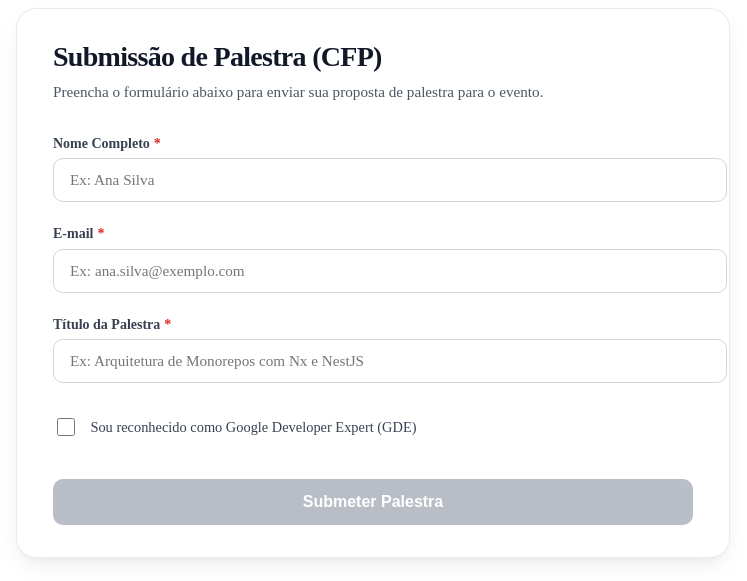
Scenario: CfpForm Component › Liberação do botão, submissão e acessibilidade WAI-ARIA (Task 4.2) › deve habilitar o botão de submissão após preenchimento válido de todos os campos obrigatórios
Check: the button "Submeter Palestra" is disabled, box [53,479,693,525]
Type "João Palestrante" into the field labelled "Nome Completo *".
click(390, 180); type("João Palestrante")  # box [53,158,727,202]
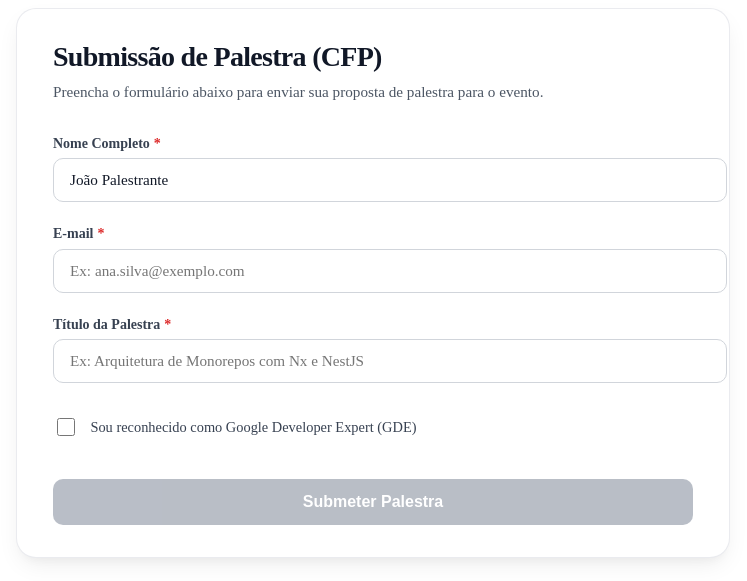
Check: the button "Submeter Palestra" is disabled, box [53,479,693,525]
Type "joao@exemplo.com" into the field labelled "E-mail *".
click(390, 271); type("joao@exemplo.com")  # box [53,249,727,293]
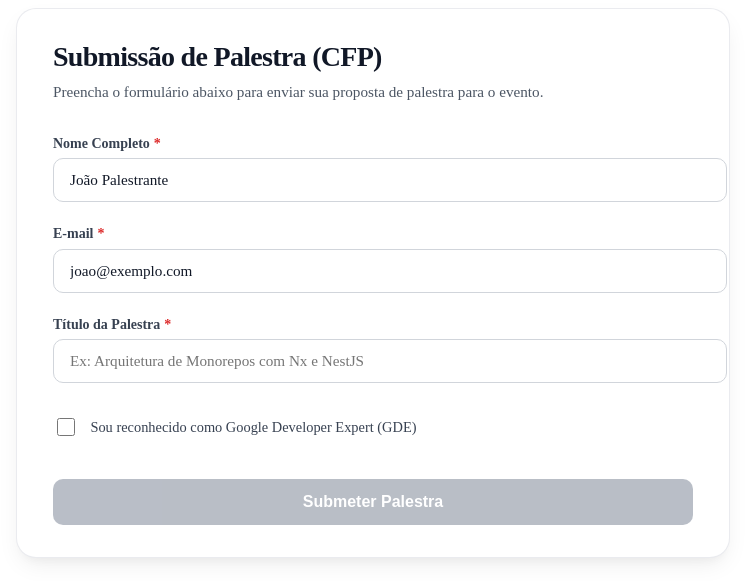
Check: the button "Submeter Palestra" is disabled, box [53,479,693,525]
Type "Arquiteturas Modernas de Frontend" into the field labelled "Título da Palestra *".
click(390, 361); type("Arquiteturas Modernas de Frontend")  # box [53,339,727,383]
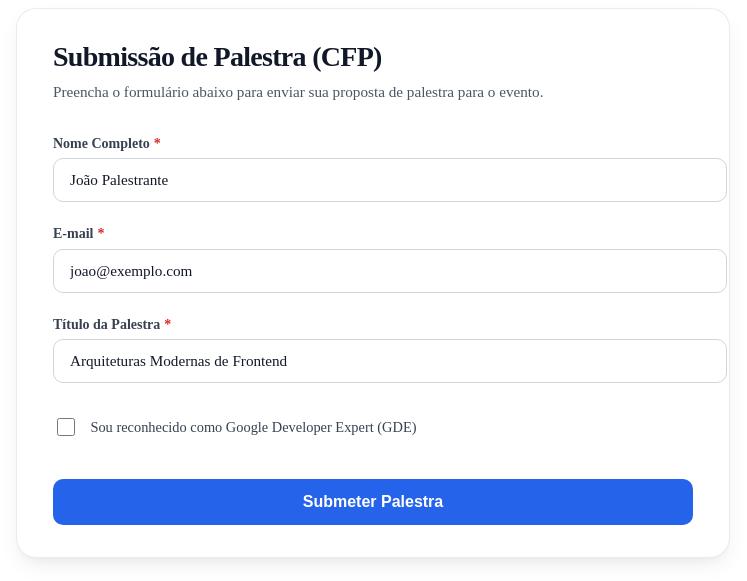
Check: the button "Submeter Palestra" is enabled, box [53,479,693,525]
